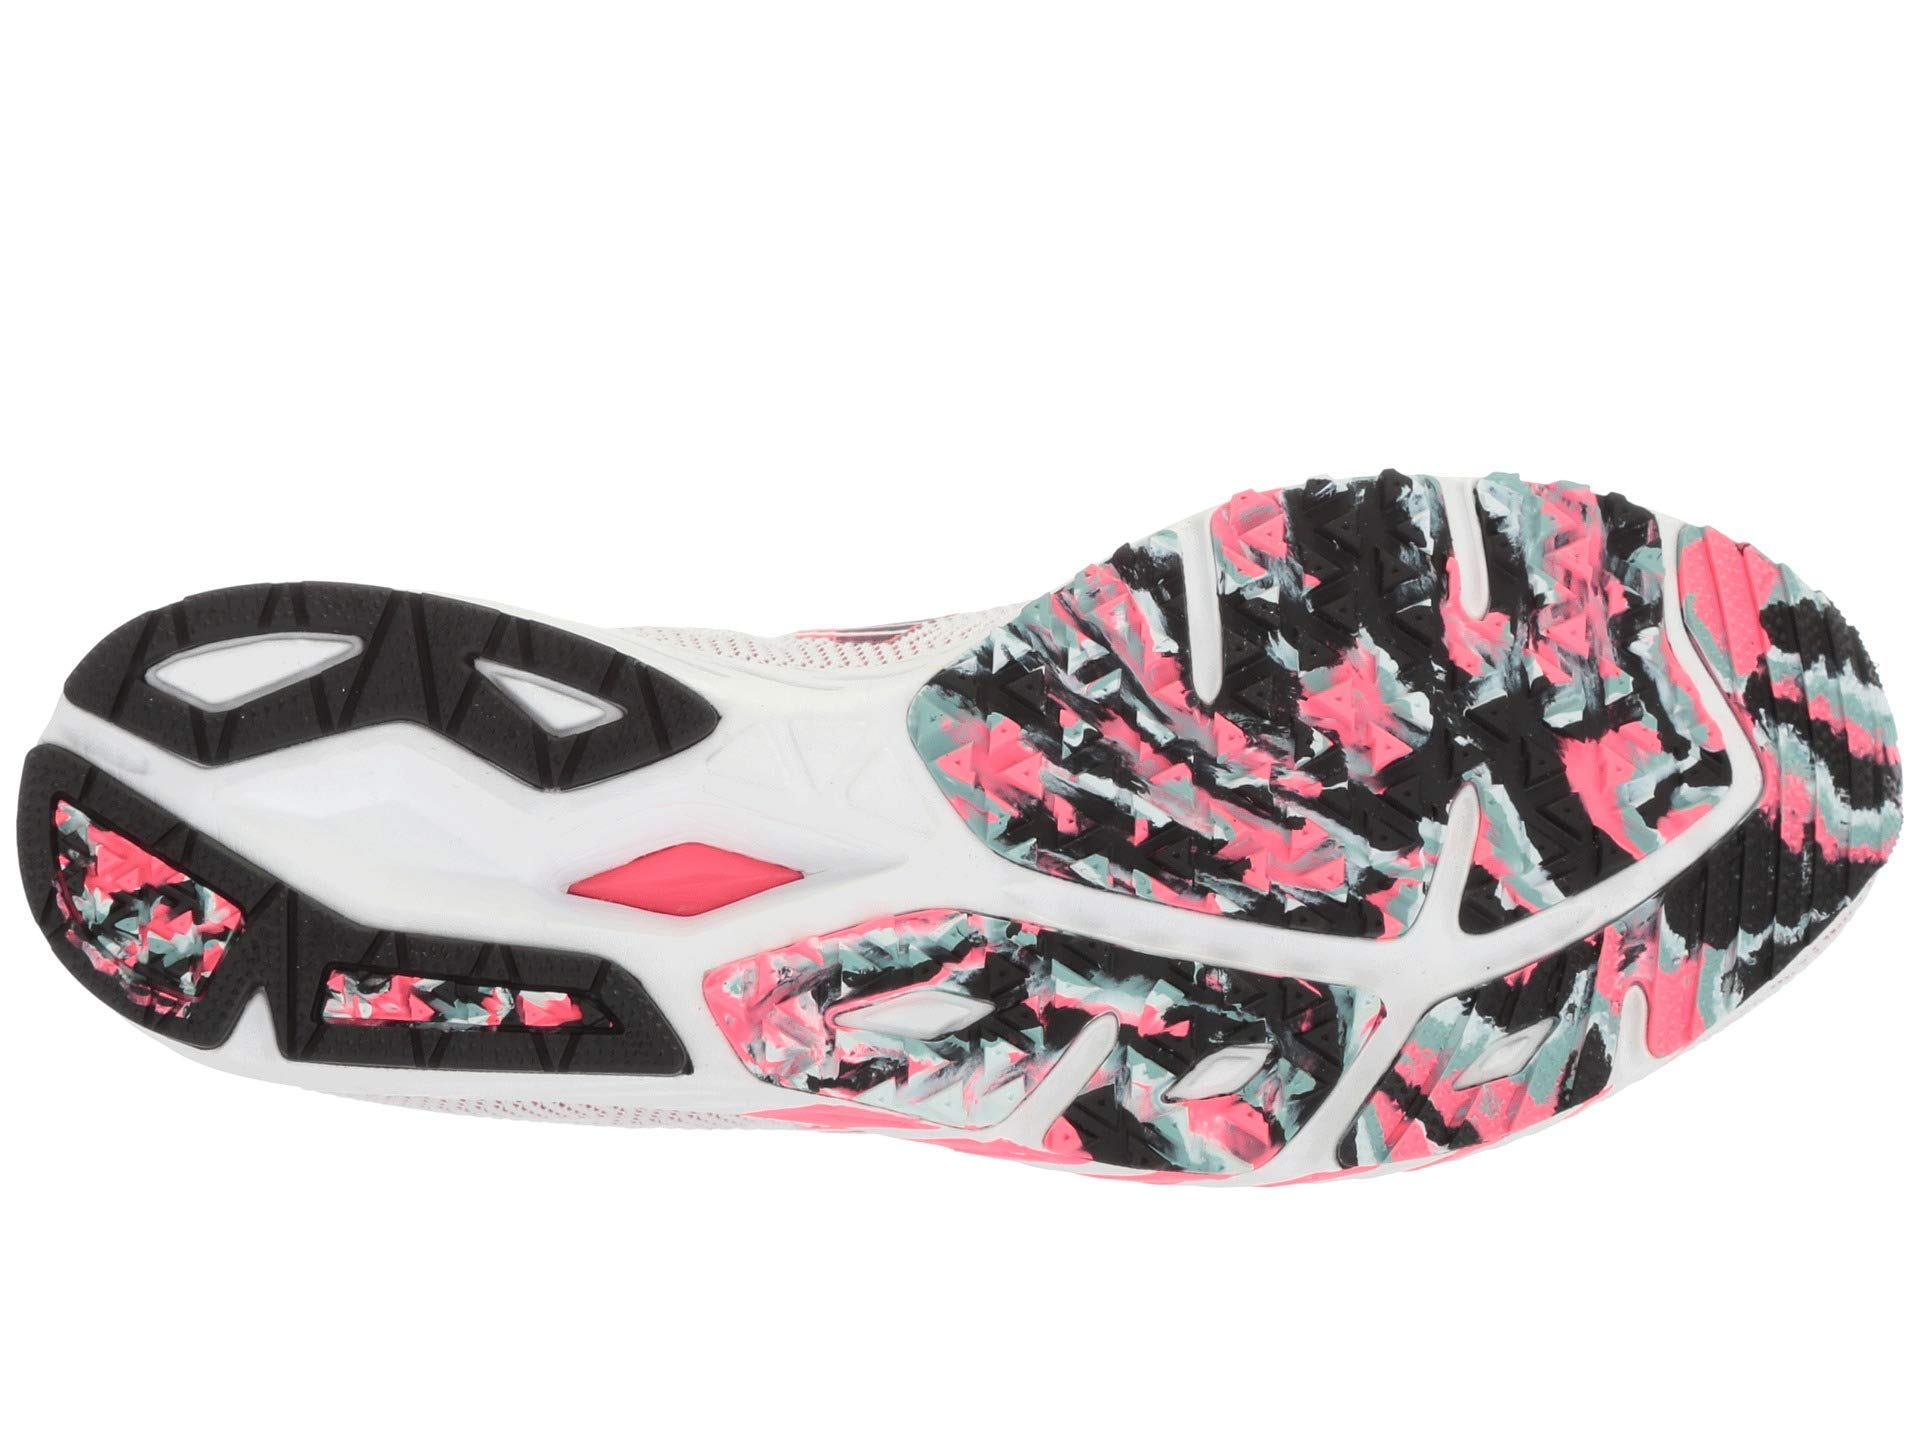circle: (1225, 523, 1596, 906)
line: (1225, 523, 1596, 906), (1758, 591, 1863, 892)
quad: (546, 824, 801, 948)
triangle: (1225, 523, 1596, 906), (165, 616, 509, 715), (754, 691, 900, 811)
